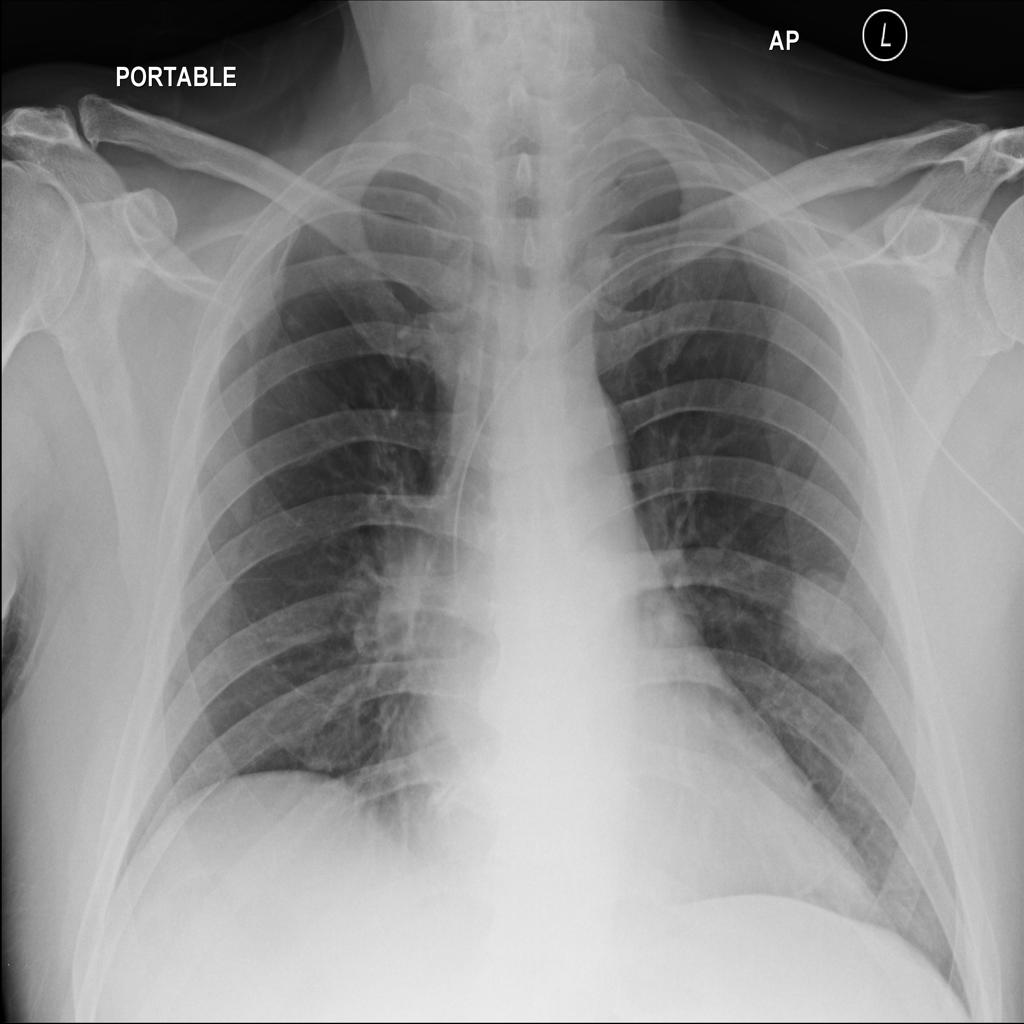nodule: (773, 543, 878, 676), (271, 292, 319, 345)
